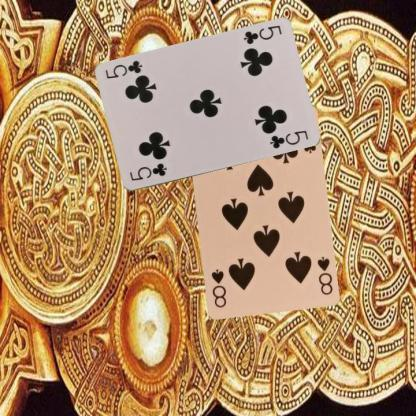5c: (241, 23, 282, 46), (127, 160, 168, 182)
8s: (314, 254, 334, 296)
